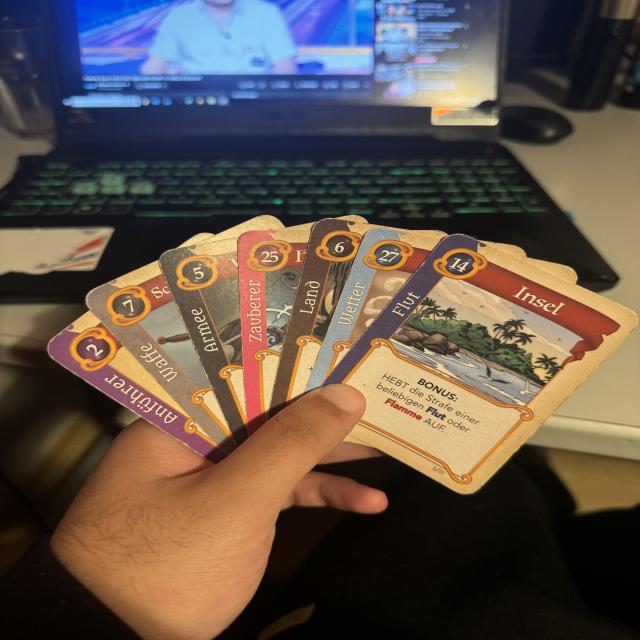Island: (321, 232, 640, 497)
Princess: (39, 312, 227, 466)
Rangers: (156, 236, 247, 448)
Smoke: (303, 228, 439, 392)
Sword of Keth: (80, 260, 239, 458)
Underground Caverns: (267, 217, 366, 422)
Warlock Lord: (240, 230, 311, 437)
